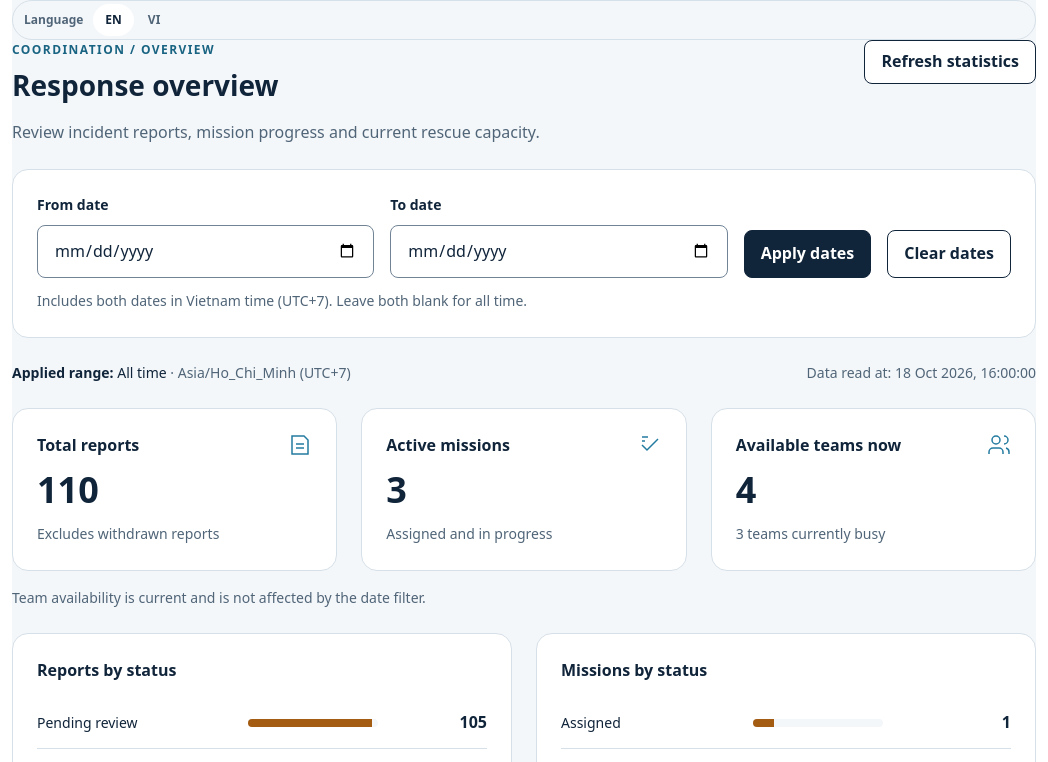
Scenario: DashboardPage › translates the dashboard without fetching data again
The width and height of the screenshot is (1048, 762).
expect the element "Total reports" shows "110": met, box x1=37 y1=465 x2=99 y2=514
Step 1. Click the button with aria-label "Switch language to Vietnamese" → [154, 20], box x1=136 y1=4 x2=172 y2=36
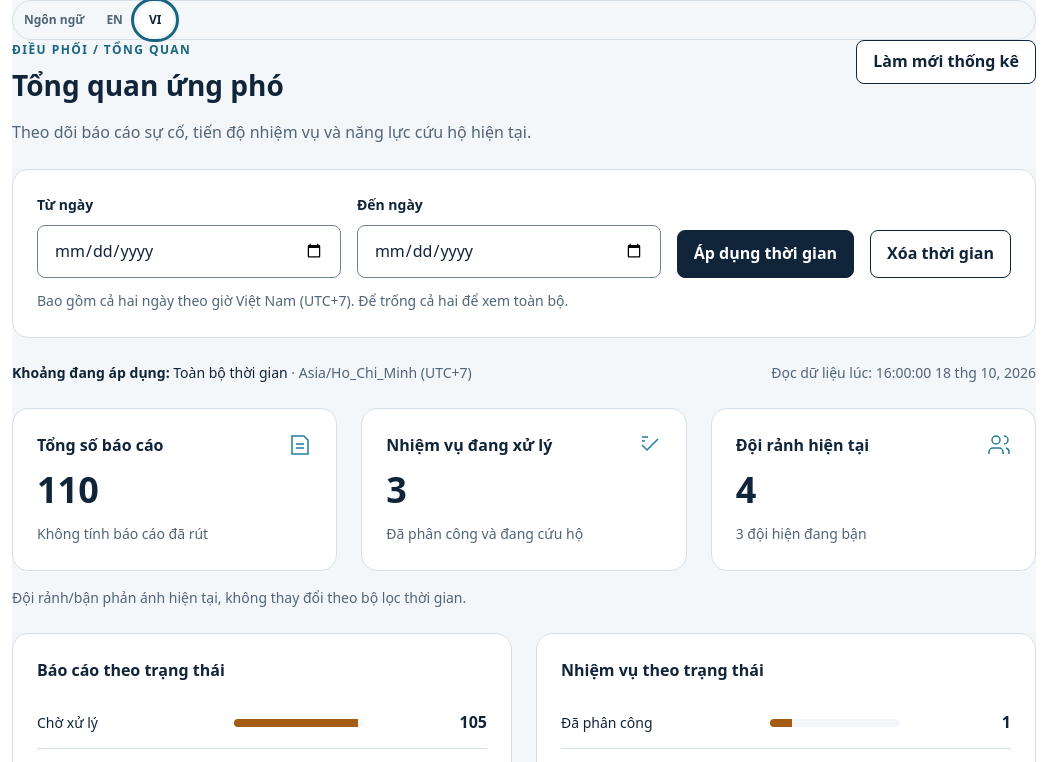
expect the heading "Tổng quan ứng phó" is shown: met, box x1=12 y1=66 x2=284 y2=104
expect the column heading "Chờ xử lý" is shown: met, box x1=37 y1=698 x2=218 y2=748
